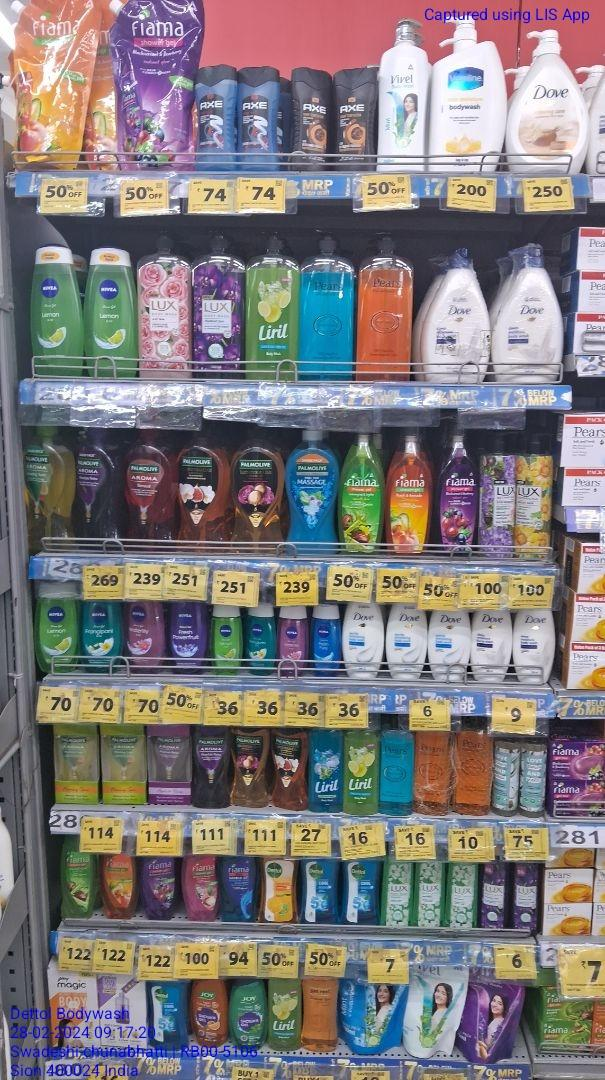Dettol_Bodywash_Cool: (299, 855, 341, 926), (147, 980, 188, 1052), (344, 858, 379, 926)
Dettol_Bodywash_Refresh: (261, 854, 298, 925)
Dove_Deep_Moisture_Body_Wash_250ML: (514, 606, 554, 684), (472, 609, 511, 684)
Dove_Gentle_Exfoliating_Body_Wash_250ML: (343, 602, 384, 680), (429, 608, 470, 682), (388, 603, 426, 681)
Fiama_Shower_Gel_Lemongrass_and_Jojoba_250ML: (61, 834, 93, 918)
Fiama_Shower_Gel_Patchouli_and_Macadamia_250ML: (183, 852, 218, 923)
Fiama_Shower_Gel_Peach_and_Avocado_250ML: (98, 854, 136, 921)
Joy_Shower_Gel_Mandarin_and_Lemongrass_250ML: (192, 980, 226, 1048)
Joy_Shower_Gel_Mint_and_Eucalyptus_250ML: (228, 979, 265, 1051)
Liril_Cooling_Mint_Body_Wash_250ML: (309, 729, 343, 813)
Liril_Lime_and_Tea_Tree_Oil_Body_Wash_250ML: (346, 725, 379, 817), (267, 977, 301, 1052)
Lux_Black_Orchid_Scent_and_Juniper_Oil_Body_Wash_245ML: (512, 860, 540, 937), (480, 861, 510, 931)
Lux_Body_Wash_Skin_Detox_Freesia_Scent_and_Alove_Vera_245ML: (447, 860, 478, 932), (382, 859, 412, 931), (415, 862, 445, 930)
Nivea_Shower_Gel_Frangipani_and_Oil_250ML: (81, 601, 123, 674), (243, 601, 276, 676)
Nivea_Shower_Gel_Fresh_Powerfruit_250ML: (168, 600, 207, 676)
Nivea_Shower_Gel_Lemon_and_Oil_250ML: (85, 242, 138, 379), (30, 240, 79, 381), (36, 580, 78, 676), (209, 606, 242, 675)
Nivea_Shower_Gel_Waterlily_and_Oil_250ML: (124, 601, 165, 675), (277, 605, 306, 677)
Palmolive_Aroma_Relax_250ML: (194, 723, 230, 809)
Palmolive_Luminous_Oils_Invigorating_Macadamia_Oil_With_Peony_250ML: (232, 728, 270, 811)
Palmolive_Luminous_Oils_With_White_Orchid_Shower_Gel_250ML: (272, 730, 307, 812)
Pears_Pure_Glycerin_and_Mint_Extracts_Body_Wash_250ML: (379, 720, 412, 818)
